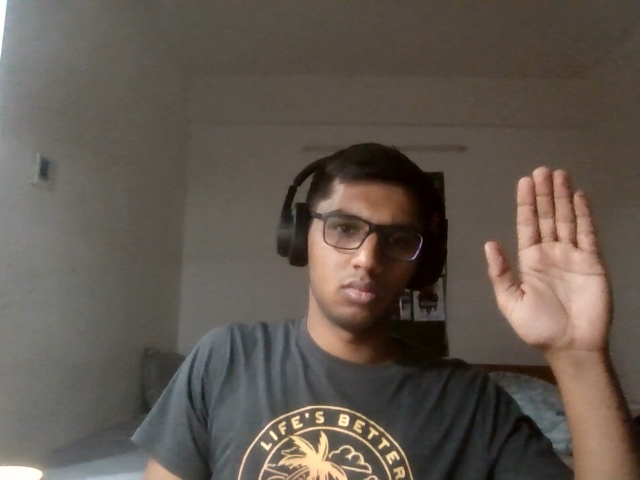hello: (468, 165, 628, 365)
